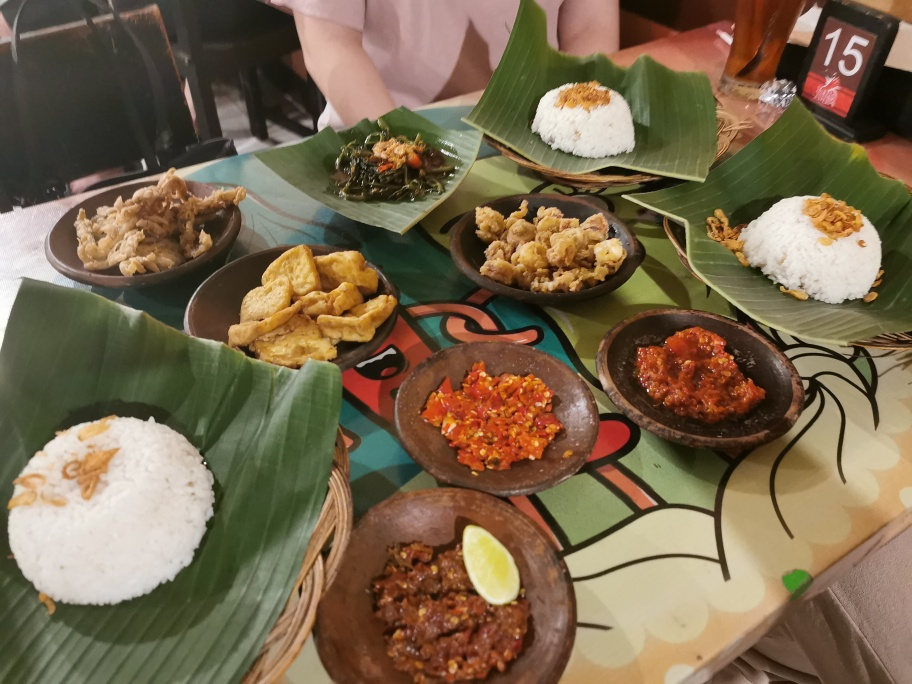nasi putih: (6, 410, 218, 607), (742, 190, 884, 310), (532, 78, 636, 161)
